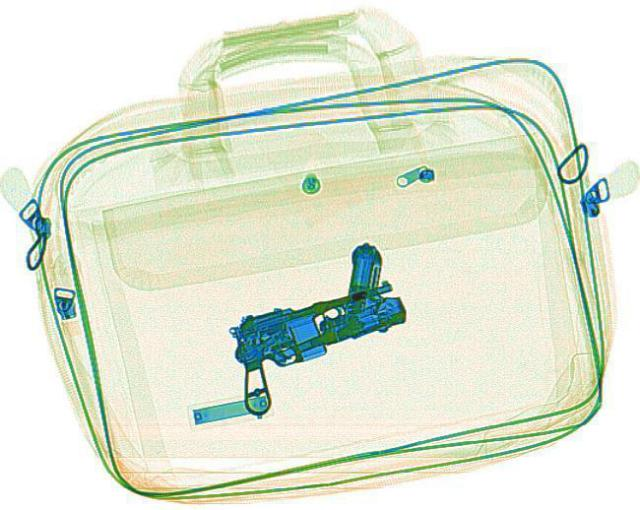Gun: (202, 274, 428, 413), (226, 238, 422, 366)
